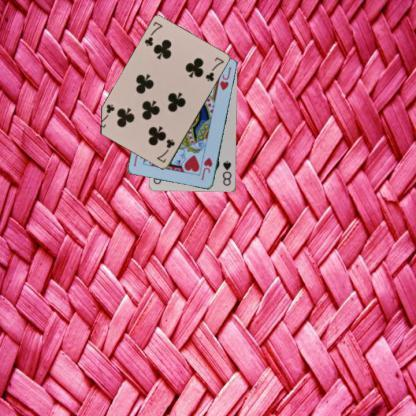7c: (142, 19, 164, 48), (154, 136, 176, 164)
8s: (220, 158, 233, 188)
Jh: (198, 156, 214, 182)
